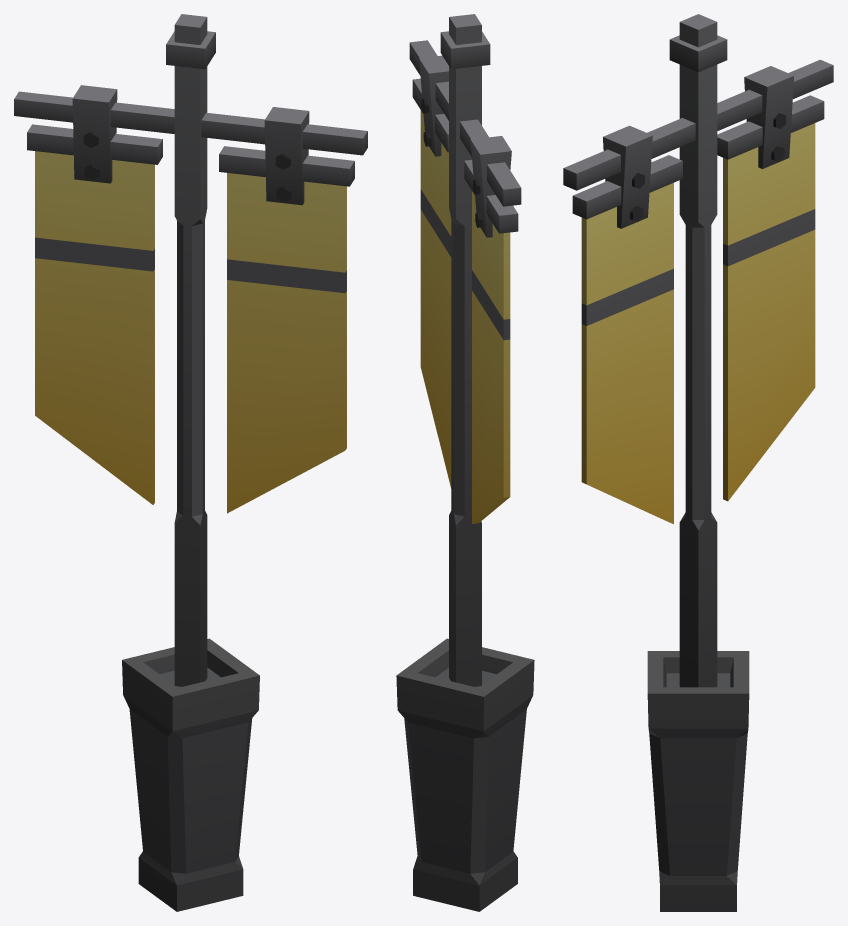
The model's file is Flag.fbx.
The picture shows the model from 3 angles, left to right: view 1: azimuth 30°, elevation 25°; view 2: azimuth 150°, elevation 25°; view 3: azimuth 270°, elevation 25°; orthographic projection.
Visible parts, largest first — view 1: Flag; view 2: Flag; view 3: Flag.
Boxes of the visible parts, x1=… form: Flag: x1=14, y1=14, x2=367, y2=911; Flag: x1=396, y1=14, x2=534, y2=911; Flag: x1=563, y1=14, x2=833, y2=911.
Size of the model in its own units: 106 by 378 by 106.
